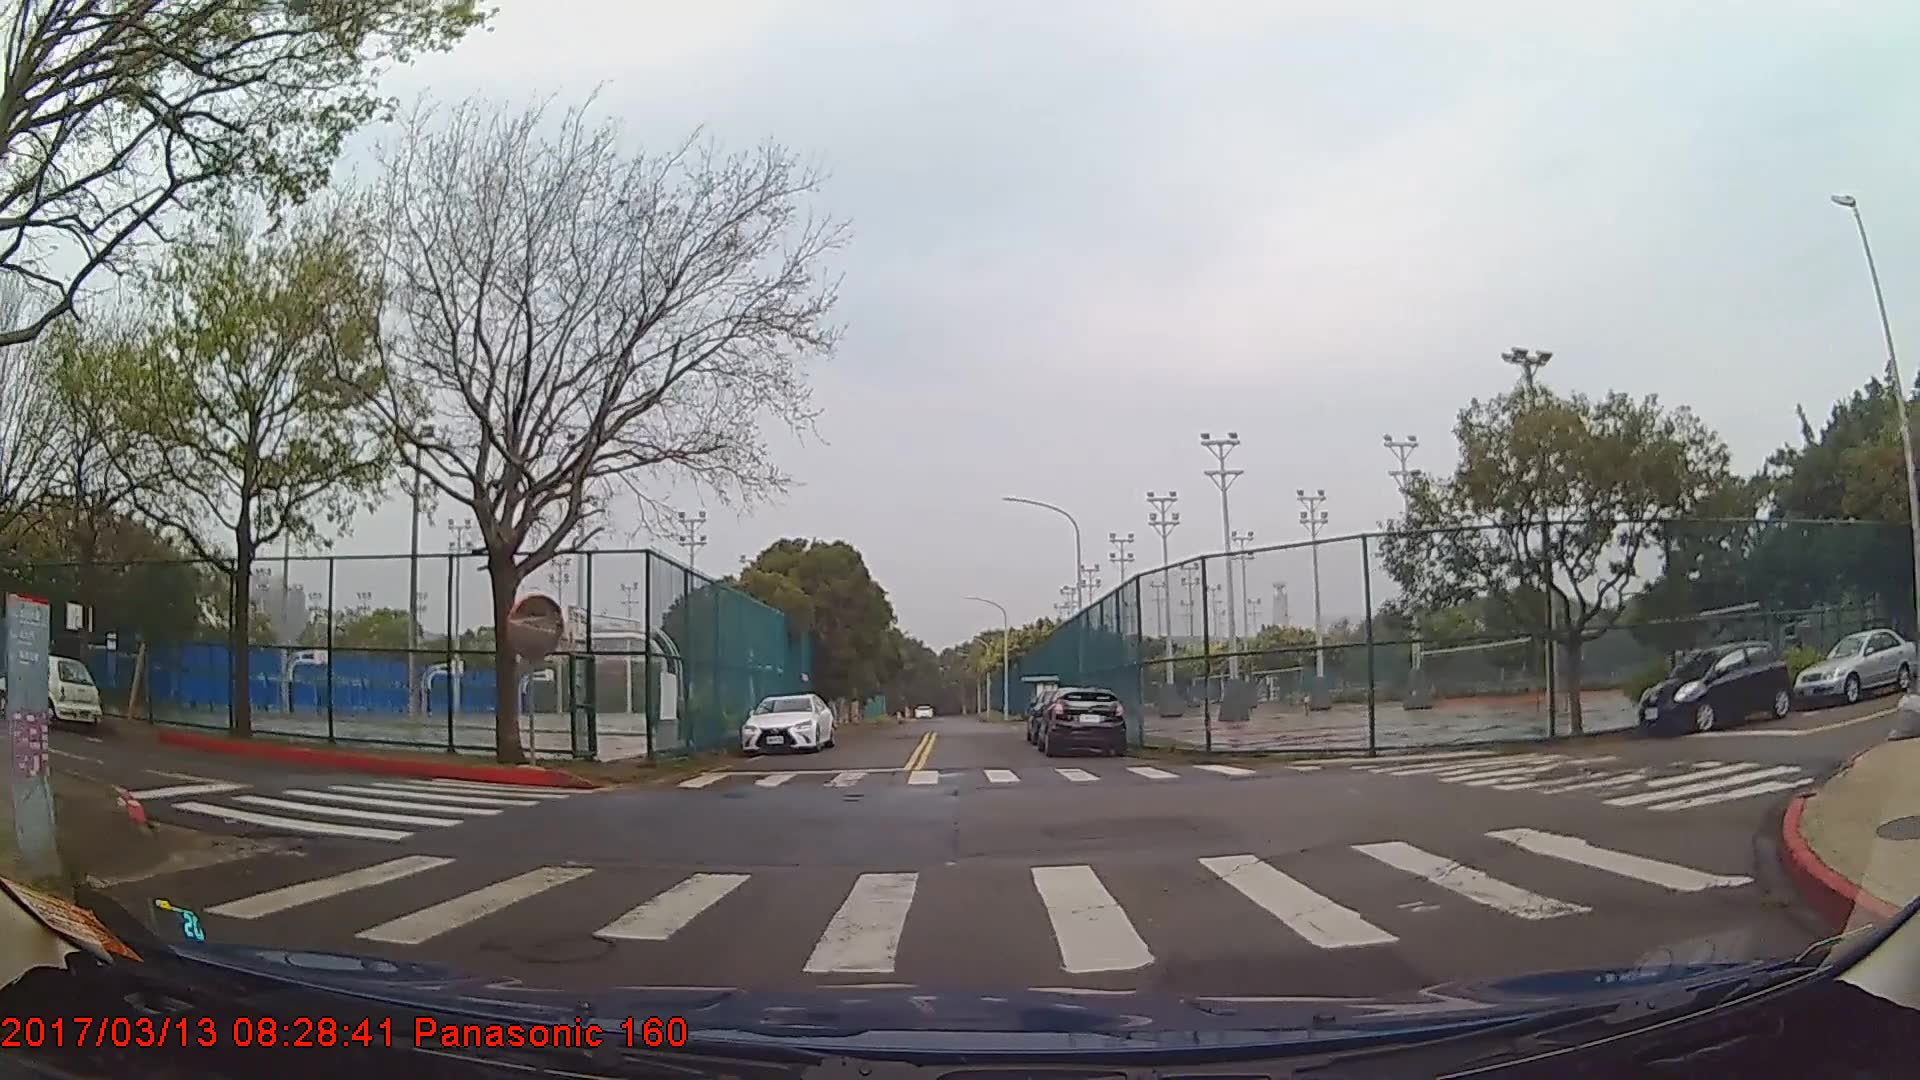vehicle: (1635, 640, 1791, 735), (1791, 625, 1916, 707), (3, 649, 99, 727), (1039, 684, 1127, 756), (742, 692, 833, 753)
